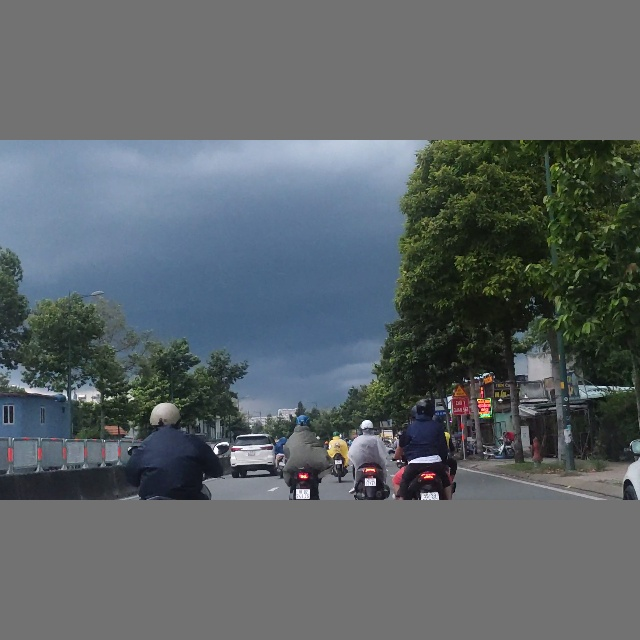I.434a: (434, 398, 448, 415)
W.245a: (453, 384, 468, 397)
